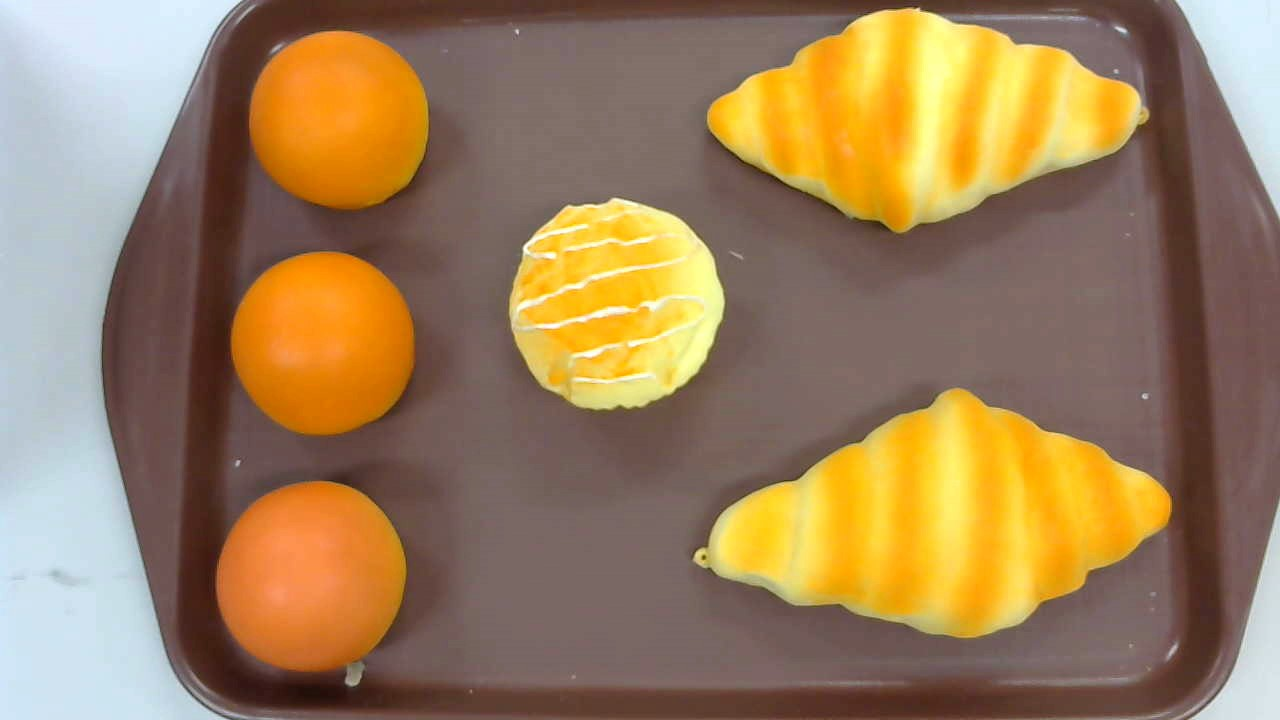bun: (216, 480, 406, 673), (230, 250, 415, 438), (247, 29, 431, 210)
croissant: (693, 386, 1172, 639), (707, 6, 1149, 234)
cupcake: (509, 197, 727, 410)
